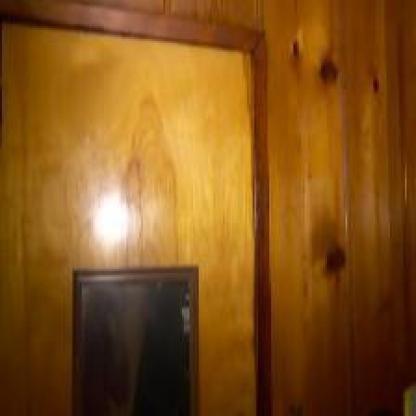other: (84, 187, 154, 264)
